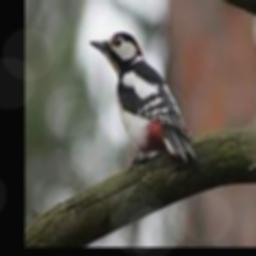Woodpecker: (88, 32, 196, 171)
